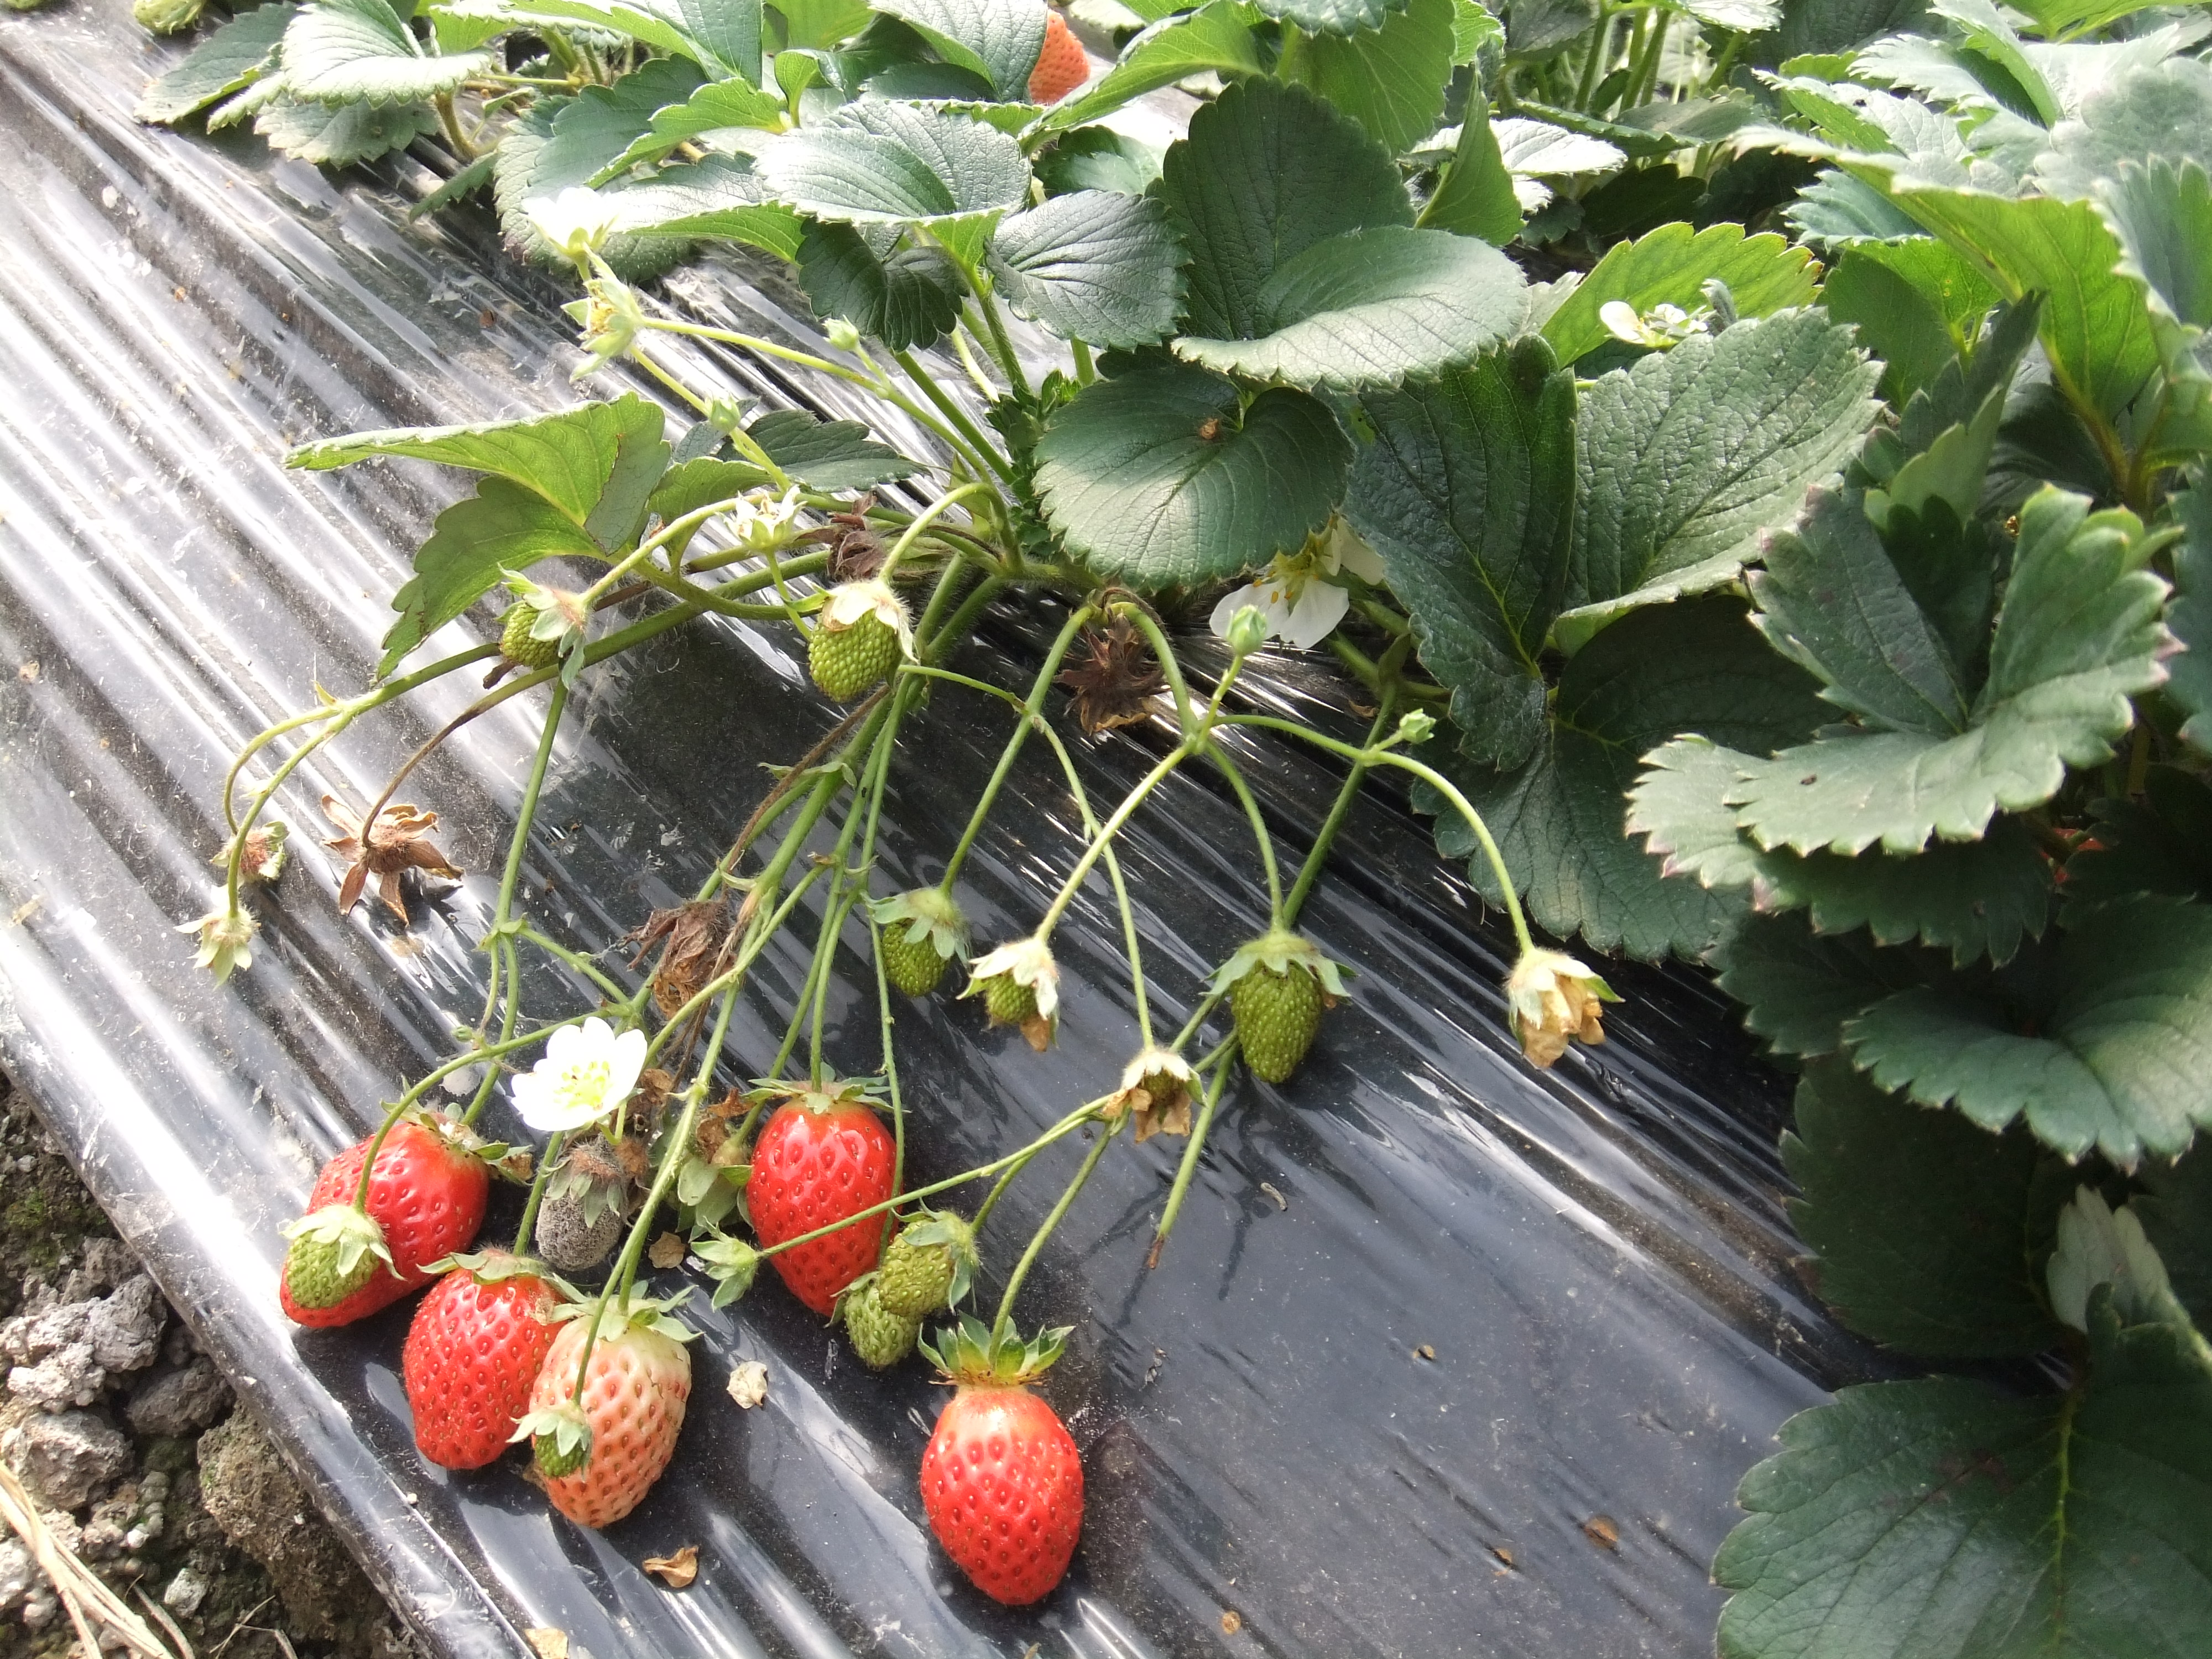StrawberryFusiform: (265, 1110, 489, 1328), (913, 1380, 1097, 1612), (738, 1082, 913, 1319), (395, 1263, 583, 1474)
StrawberryIrremovable: (526, 1291, 688, 1541), (1223, 936, 1332, 1084), (810, 579, 909, 702), (876, 1211, 984, 1319), (874, 882, 970, 993), (282, 1206, 376, 1317), (1015, 3, 1103, 106), (495, 587, 589, 671), (834, 1277, 914, 1366), (979, 938, 1054, 1026)
StrawberryRemovable: (904, 1375, 1106, 1621), (273, 1112, 486, 1337), (730, 1079, 921, 1328), (392, 1263, 580, 1474)
